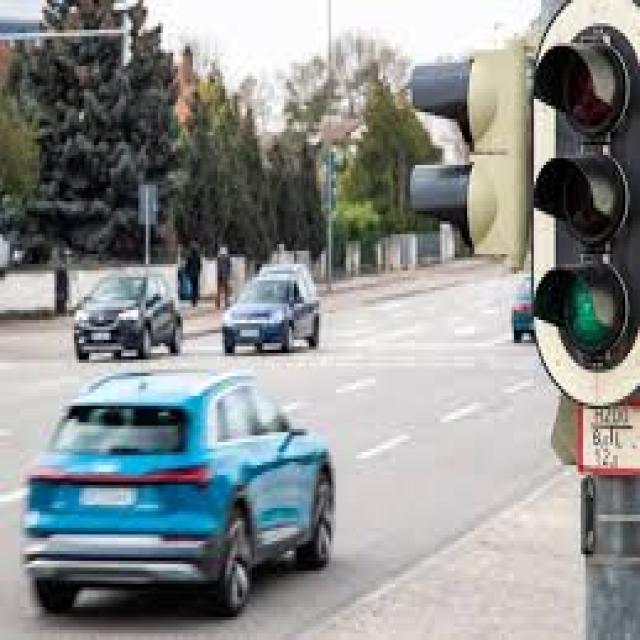feu: (412, 1, 640, 373)
particulier: (22, 373, 335, 615), (76, 276, 182, 361), (225, 266, 320, 355)
